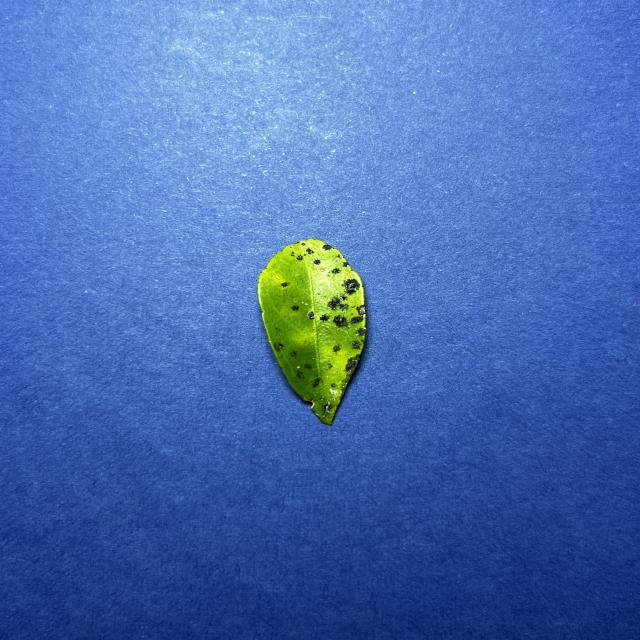sooty_mold: (258, 240, 367, 424)
